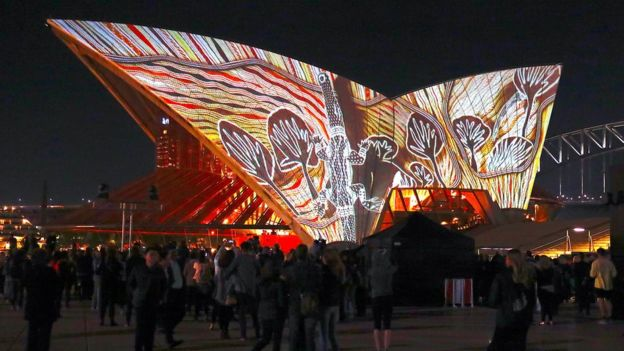opera house: (34, 16, 593, 248)
